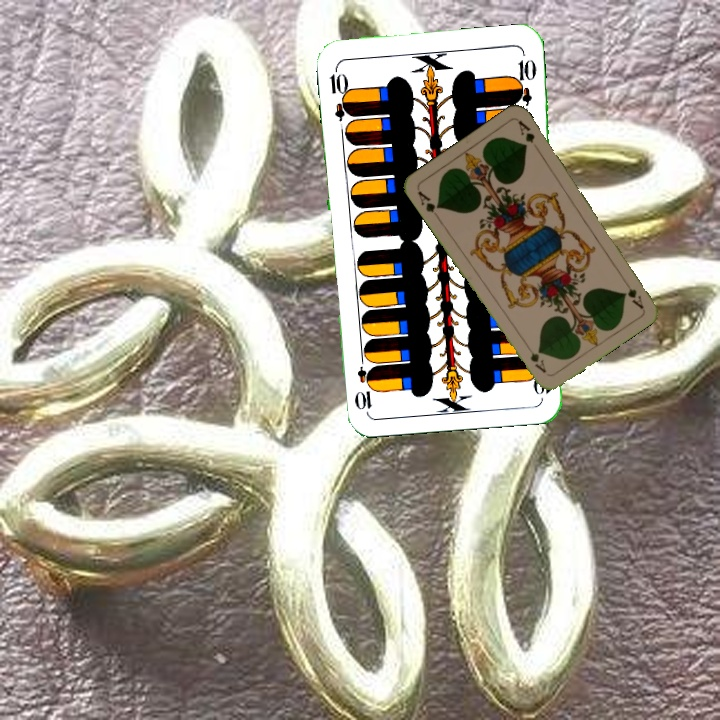E10: (325, 63, 354, 123)
GA: (413, 187, 443, 222), (618, 274, 646, 311)
